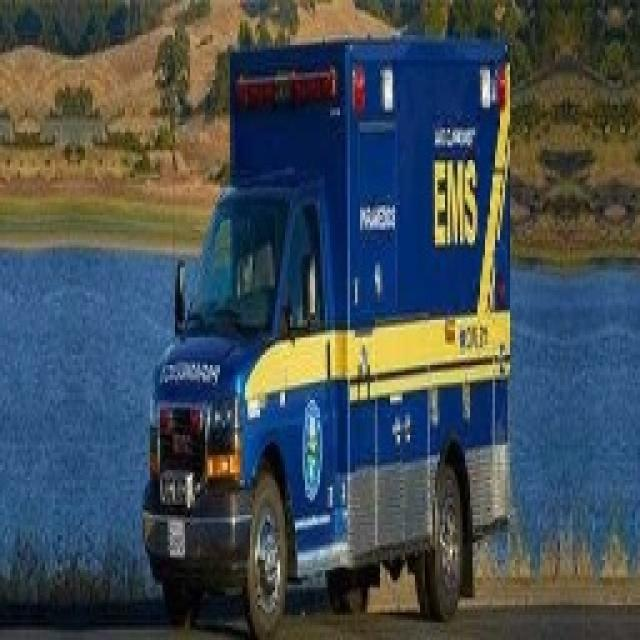emergency-vehicle: (117, 16, 544, 621)
